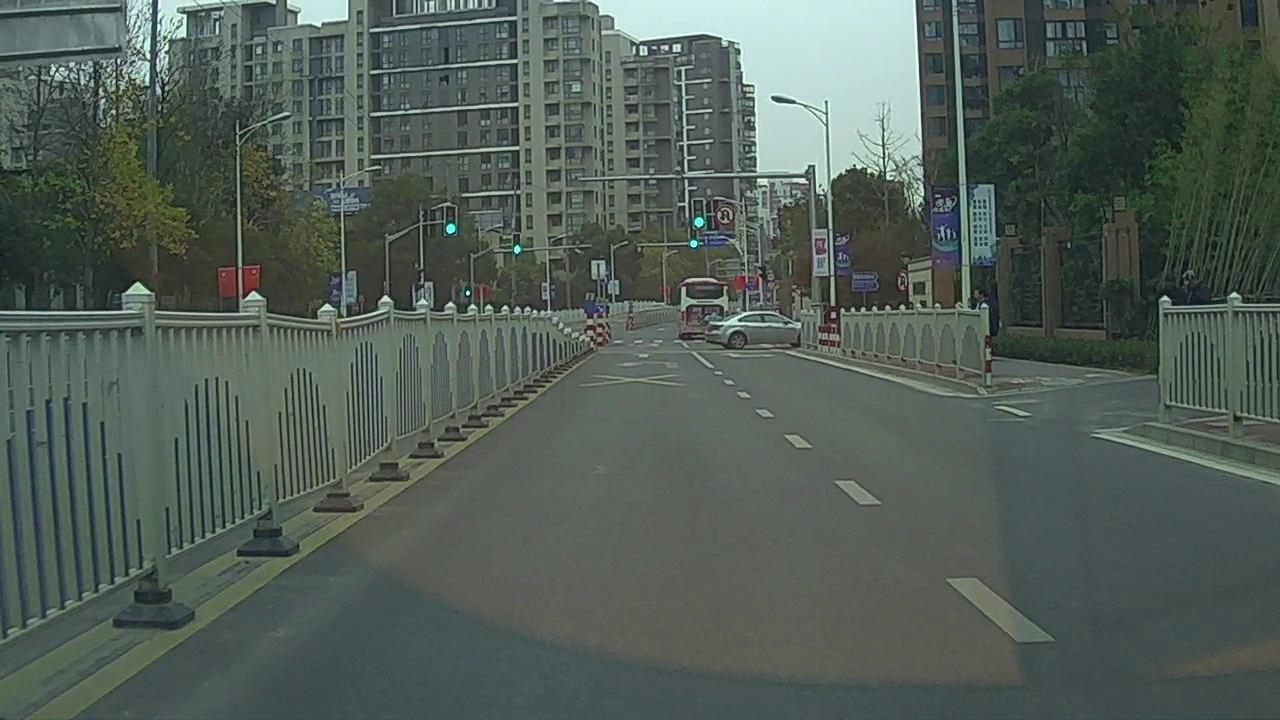traffic_light: (445, 206, 457, 235), (694, 200, 704, 227), (514, 232, 521, 254), (691, 229, 697, 247)
